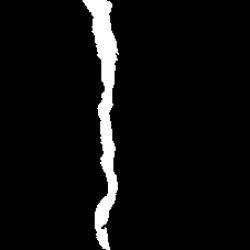crack: (80, 1, 123, 247)
